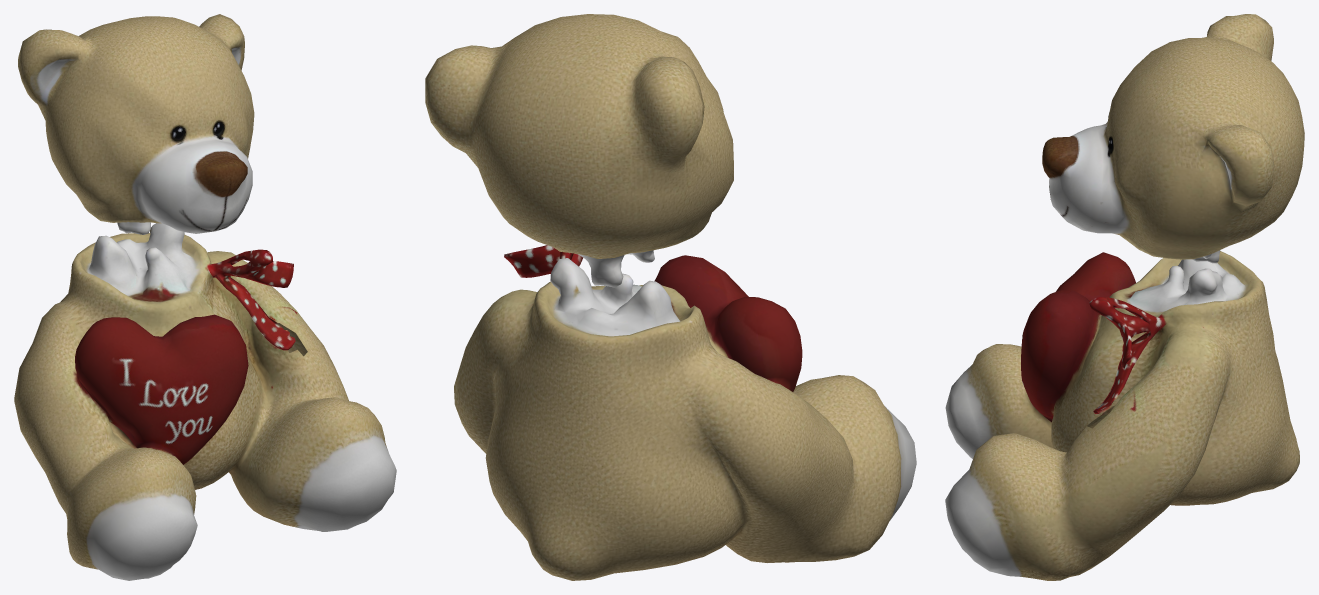
The model's file is TeddyBearHeadChoken.fbx.
3 views of the same model, side by side, from view 1: azimuth 30°, elevation 25°; view 2: azimuth 150°, elevation 25°; view 3: azimuth 270°, elevation 25° (orthographic). The views are drawn at different scales.
Parts seen in each view (by area): view 1: tripo_node_b3363c22.001; view 2: tripo_node_b3363c22.001; view 3: tripo_node_b3363c22.001.
Boxes of the visible parts, x1,y1,x2,y2 form: tripo_node_b3363c22.001: (14, 14, 396, 580); tripo_node_b3363c22.001: (425, 14, 916, 580); tripo_node_b3363c22.001: (945, 14, 1304, 580).
Bounding box in the file's own units: 45.24 × 64.45 × 44.59.
1 material, 1 textured.
